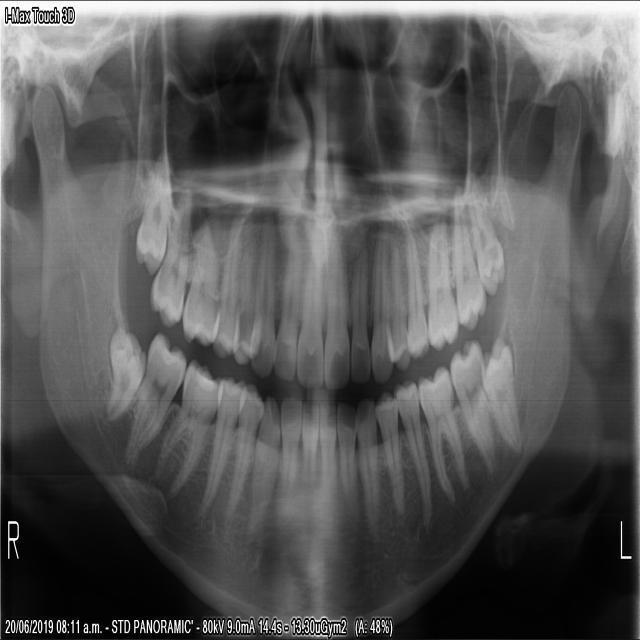LCD: (357, 397, 380, 537)
LCU: (370, 238, 393, 385)
LID: (336, 402, 361, 520), (319, 398, 335, 519)
LIU: (324, 232, 350, 394), (351, 235, 370, 385)
LMD: (414, 362, 467, 500), (449, 335, 496, 469), (481, 340, 523, 452)
LMU: (467, 182, 507, 303), (425, 222, 461, 354), (454, 197, 489, 328)
LPMD: (393, 375, 433, 534), (377, 389, 407, 518)
LPMU: (385, 245, 412, 370), (406, 235, 429, 369)
RCD: (245, 393, 279, 538)
RCU: (249, 225, 277, 379)
RID: (276, 394, 303, 503), (300, 394, 319, 502)
RIU: (271, 230, 304, 384), (295, 232, 325, 388)
RMD: (155, 355, 224, 499), (123, 325, 190, 464), (107, 324, 145, 425)
RMU: (145, 202, 197, 332), (180, 227, 224, 354), (128, 179, 173, 277)
RPMD: (200, 374, 247, 514), (230, 382, 264, 523)
RPMU: (210, 223, 245, 365), (232, 228, 259, 368)
